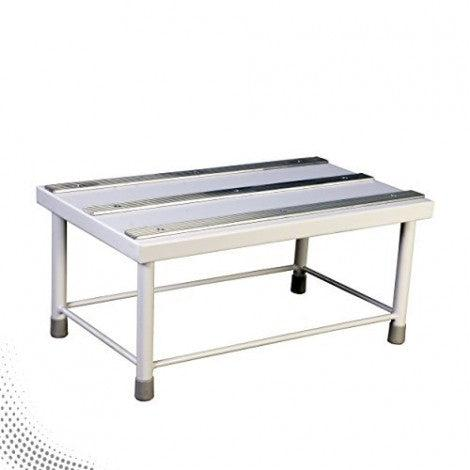stool: (25, 145, 441, 402)
